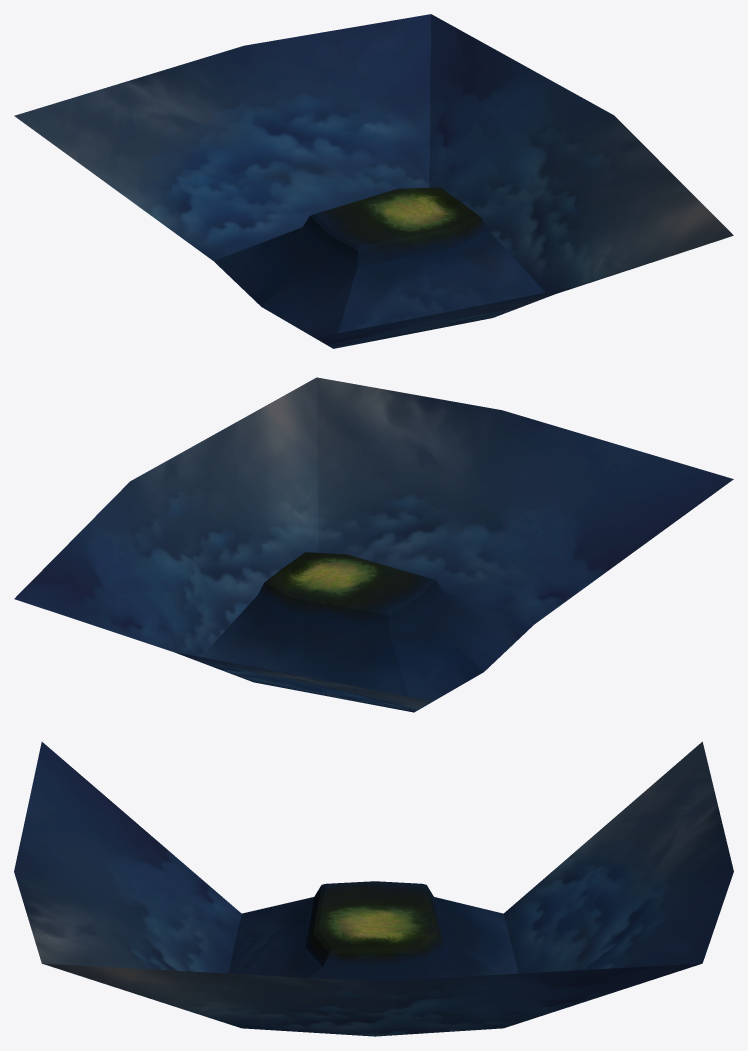
File: B4 - Ground.fbx
3 renders of one model, top to bottom at view 1: azimuth 30°, elevation 25°; view 2: azimuth 150°, elevation 25°; view 3: azimuth 270°, elevation 25°, orthographic. The views are drawn at different scales.
Parts seen in each view (by area): view 1: Ground; view 2: Ground; view 3: Ground.
Boxes of the visible parts, <box> form: Ground: <box>14,14,733,348</box>; Ground: <box>14,377,733,712</box>; Ground: <box>14,741,733,1036</box>.
Size of the model in its own units: 885 by 197 by 1122.
Materials: 1 (1 with a texture image).
